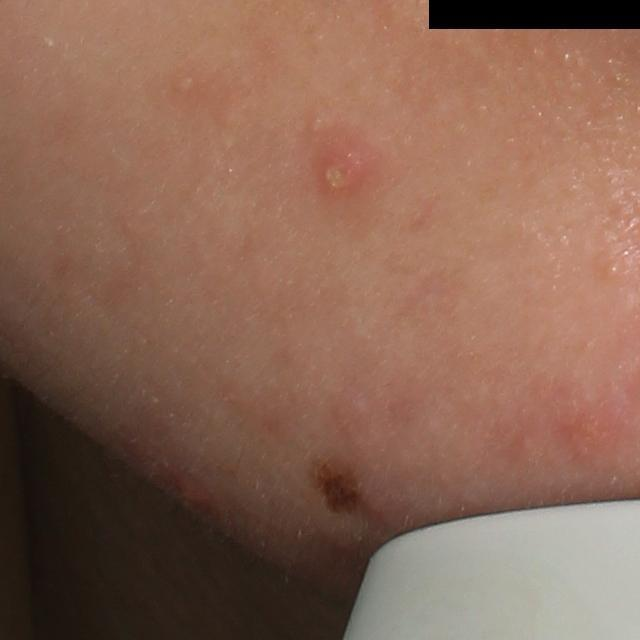comedo: (602, 259, 624, 282)
nevus: (307, 447, 369, 522)
papule: (174, 475, 212, 507)
pustule: (313, 140, 372, 204)
